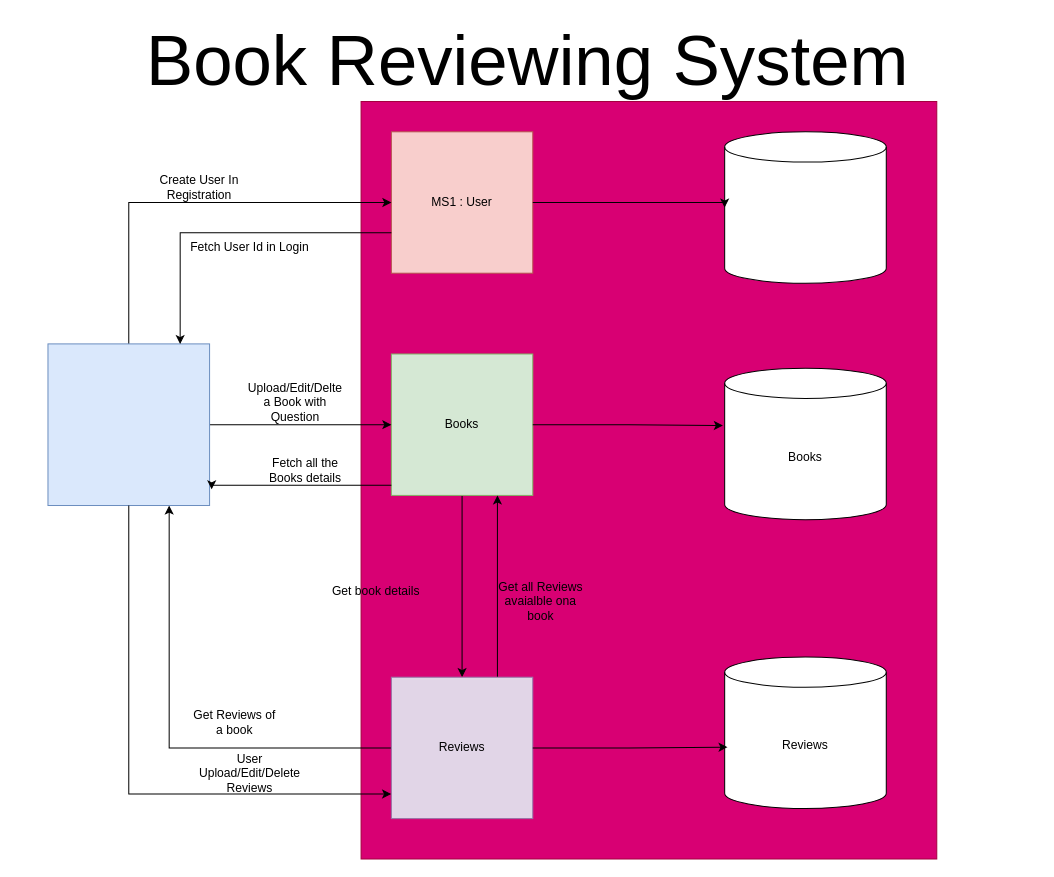
The diagram is 1054 pixels wide and 877 high, and some of its shapes have lost their labels. Each missing label, with the centre of its shape:
"FrontEnd(React)" belongs at point (128, 424).
"User Data" belongs at point (805, 207).
